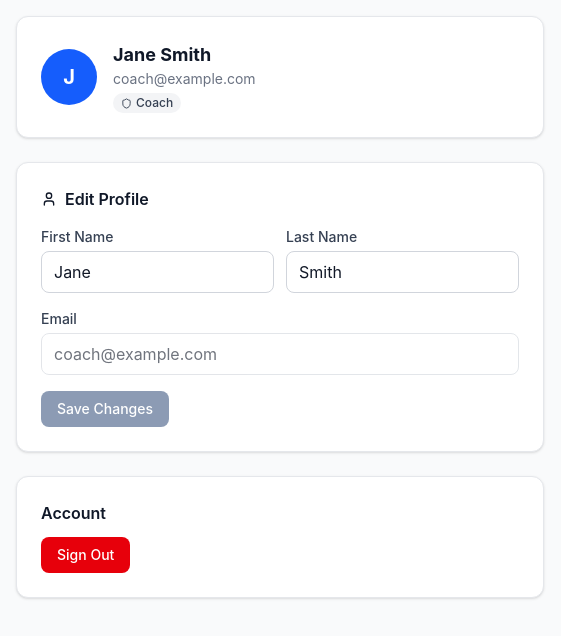
it: ProfilePage — submit guard and save behaviour › shows inline errors when Save is clicked with empty first name
Clear the field labelled "First Name" at point(158, 272), box [41,251,274,293]
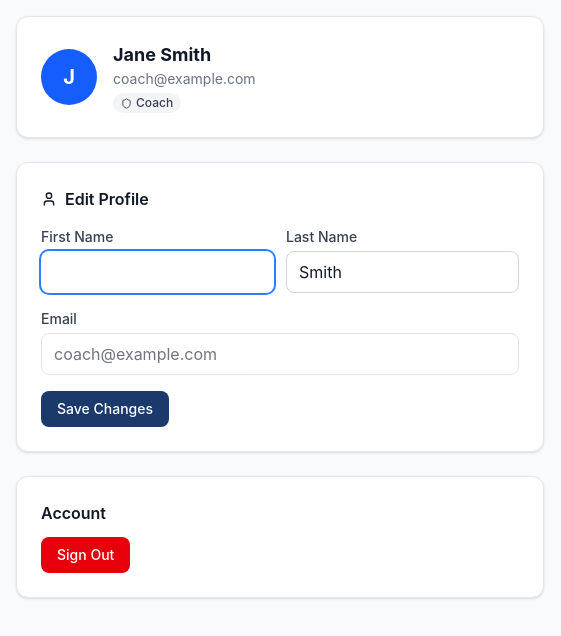
Click the button "Save Changes" at point(105, 409), box [41,391,169,427]
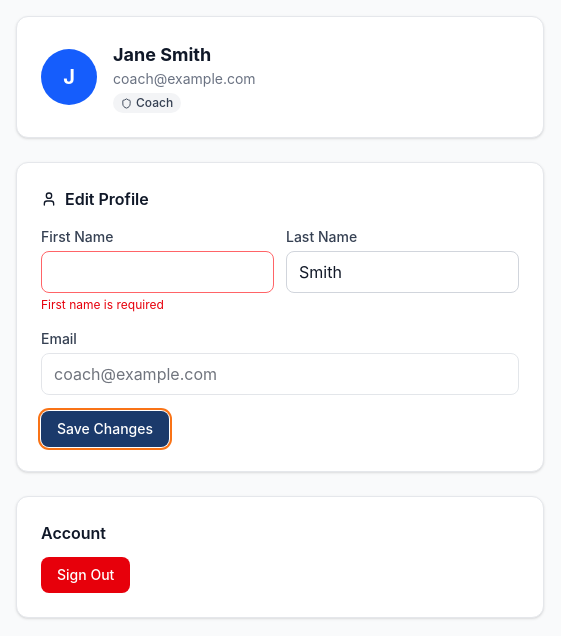
Now the text "First name is required" is shown, box [41,297,164,312]
